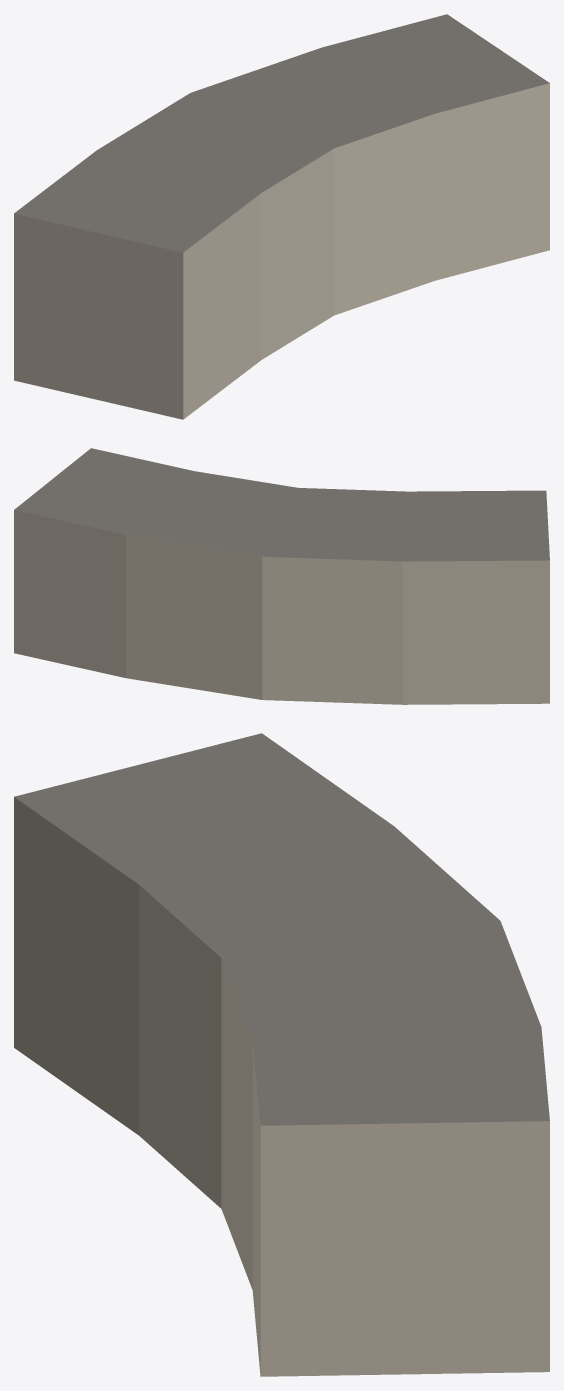
3 views of the same model, one above another, from view 1: azimuth 30°, elevation 25°; view 2: azimuth 150°, elevation 25°; view 3: azimuth 270°, elevation 25° (orthographic). The views are drawn at different scales.
Parts seen in each view (by area): view 1: HP-w859488793; view 2: HP-w859488793; view 3: HP-w859488793.
Boxes of the visible parts, x1,y1,x2,y2 form: HP-w859488793: [14, 14, 549, 419]; HP-w859488793: [14, 448, 549, 704]; HP-w859488793: [14, 733, 549, 1376].
Size of the model in its own units: 60.37 by 18 by 34.84.
